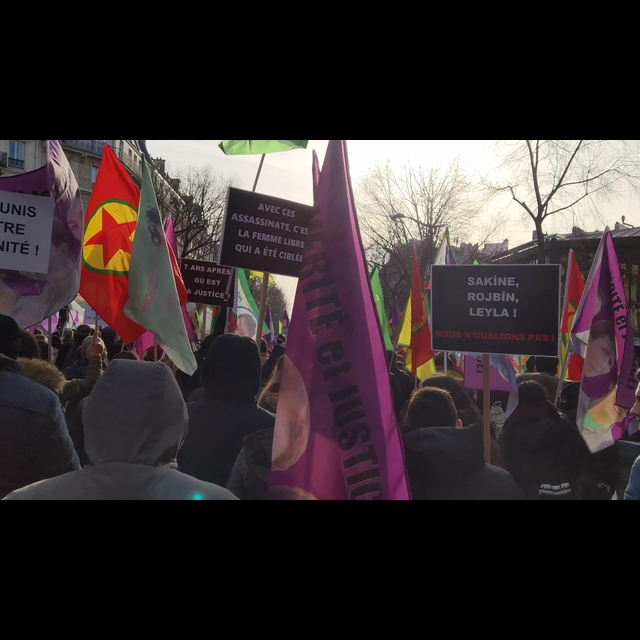PKK: (74, 140, 138, 346)
